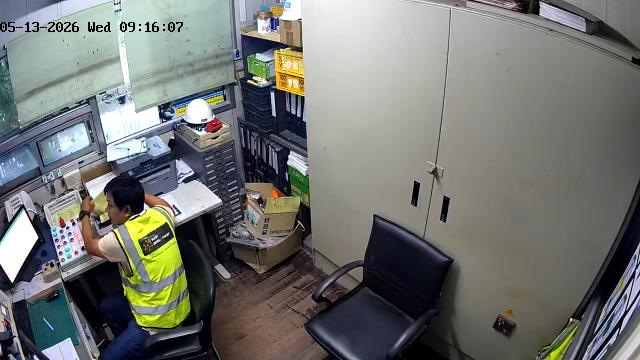Head: (104, 175, 144, 224)
People: (83, 175, 190, 359)
